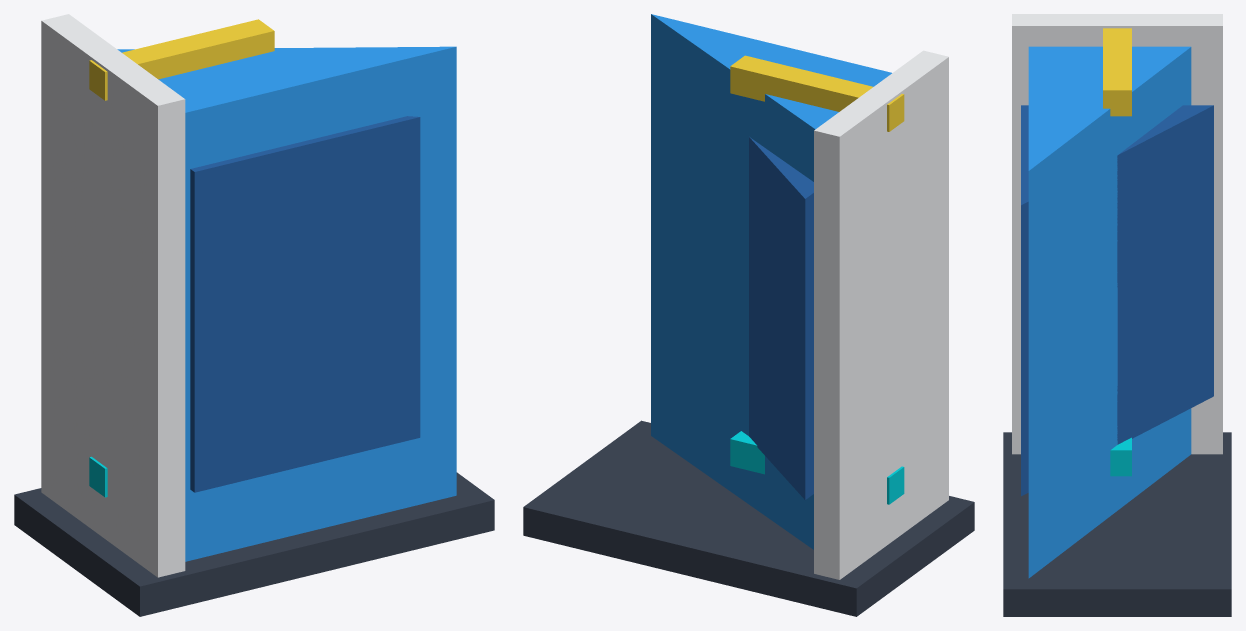
The model's file is ArenaMarker_Triangle.fbx.
3 views of the same model, side by side, from view 1: azimuth 30°, elevation 25°; view 2: azimuth 150°, elevation 25°; view 3: azimuth 270°, elevation 25° (orthographic). The views are drawn at different scales.
Parts seen in each view (by area): view 1: ArenaMarker_Triangle; view 2: ArenaMarker_Triangle; view 3: ArenaMarker_Triangle.
Part boxes in pixels (<box>): ArenaMarker_Triangle: <box>14,14,494,616</box>; ArenaMarker_Triangle: <box>523,14,974,616</box>; ArenaMarker_Triangle: <box>1003,14,1231,616</box>.
Bounding box in the file's own units: 440 × 595 × 270.
